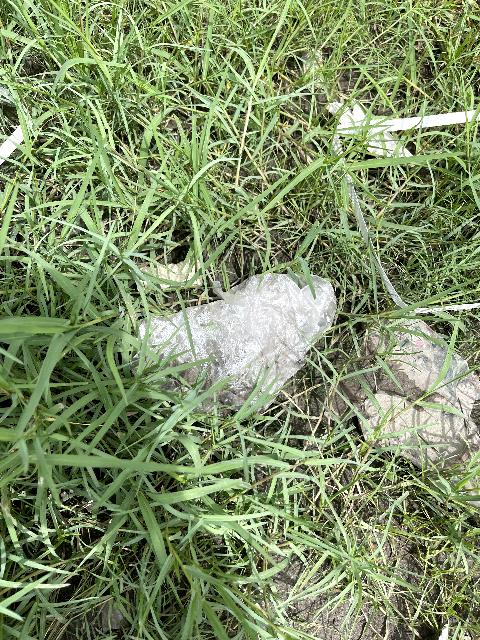polythene: (102, 269, 365, 413)
